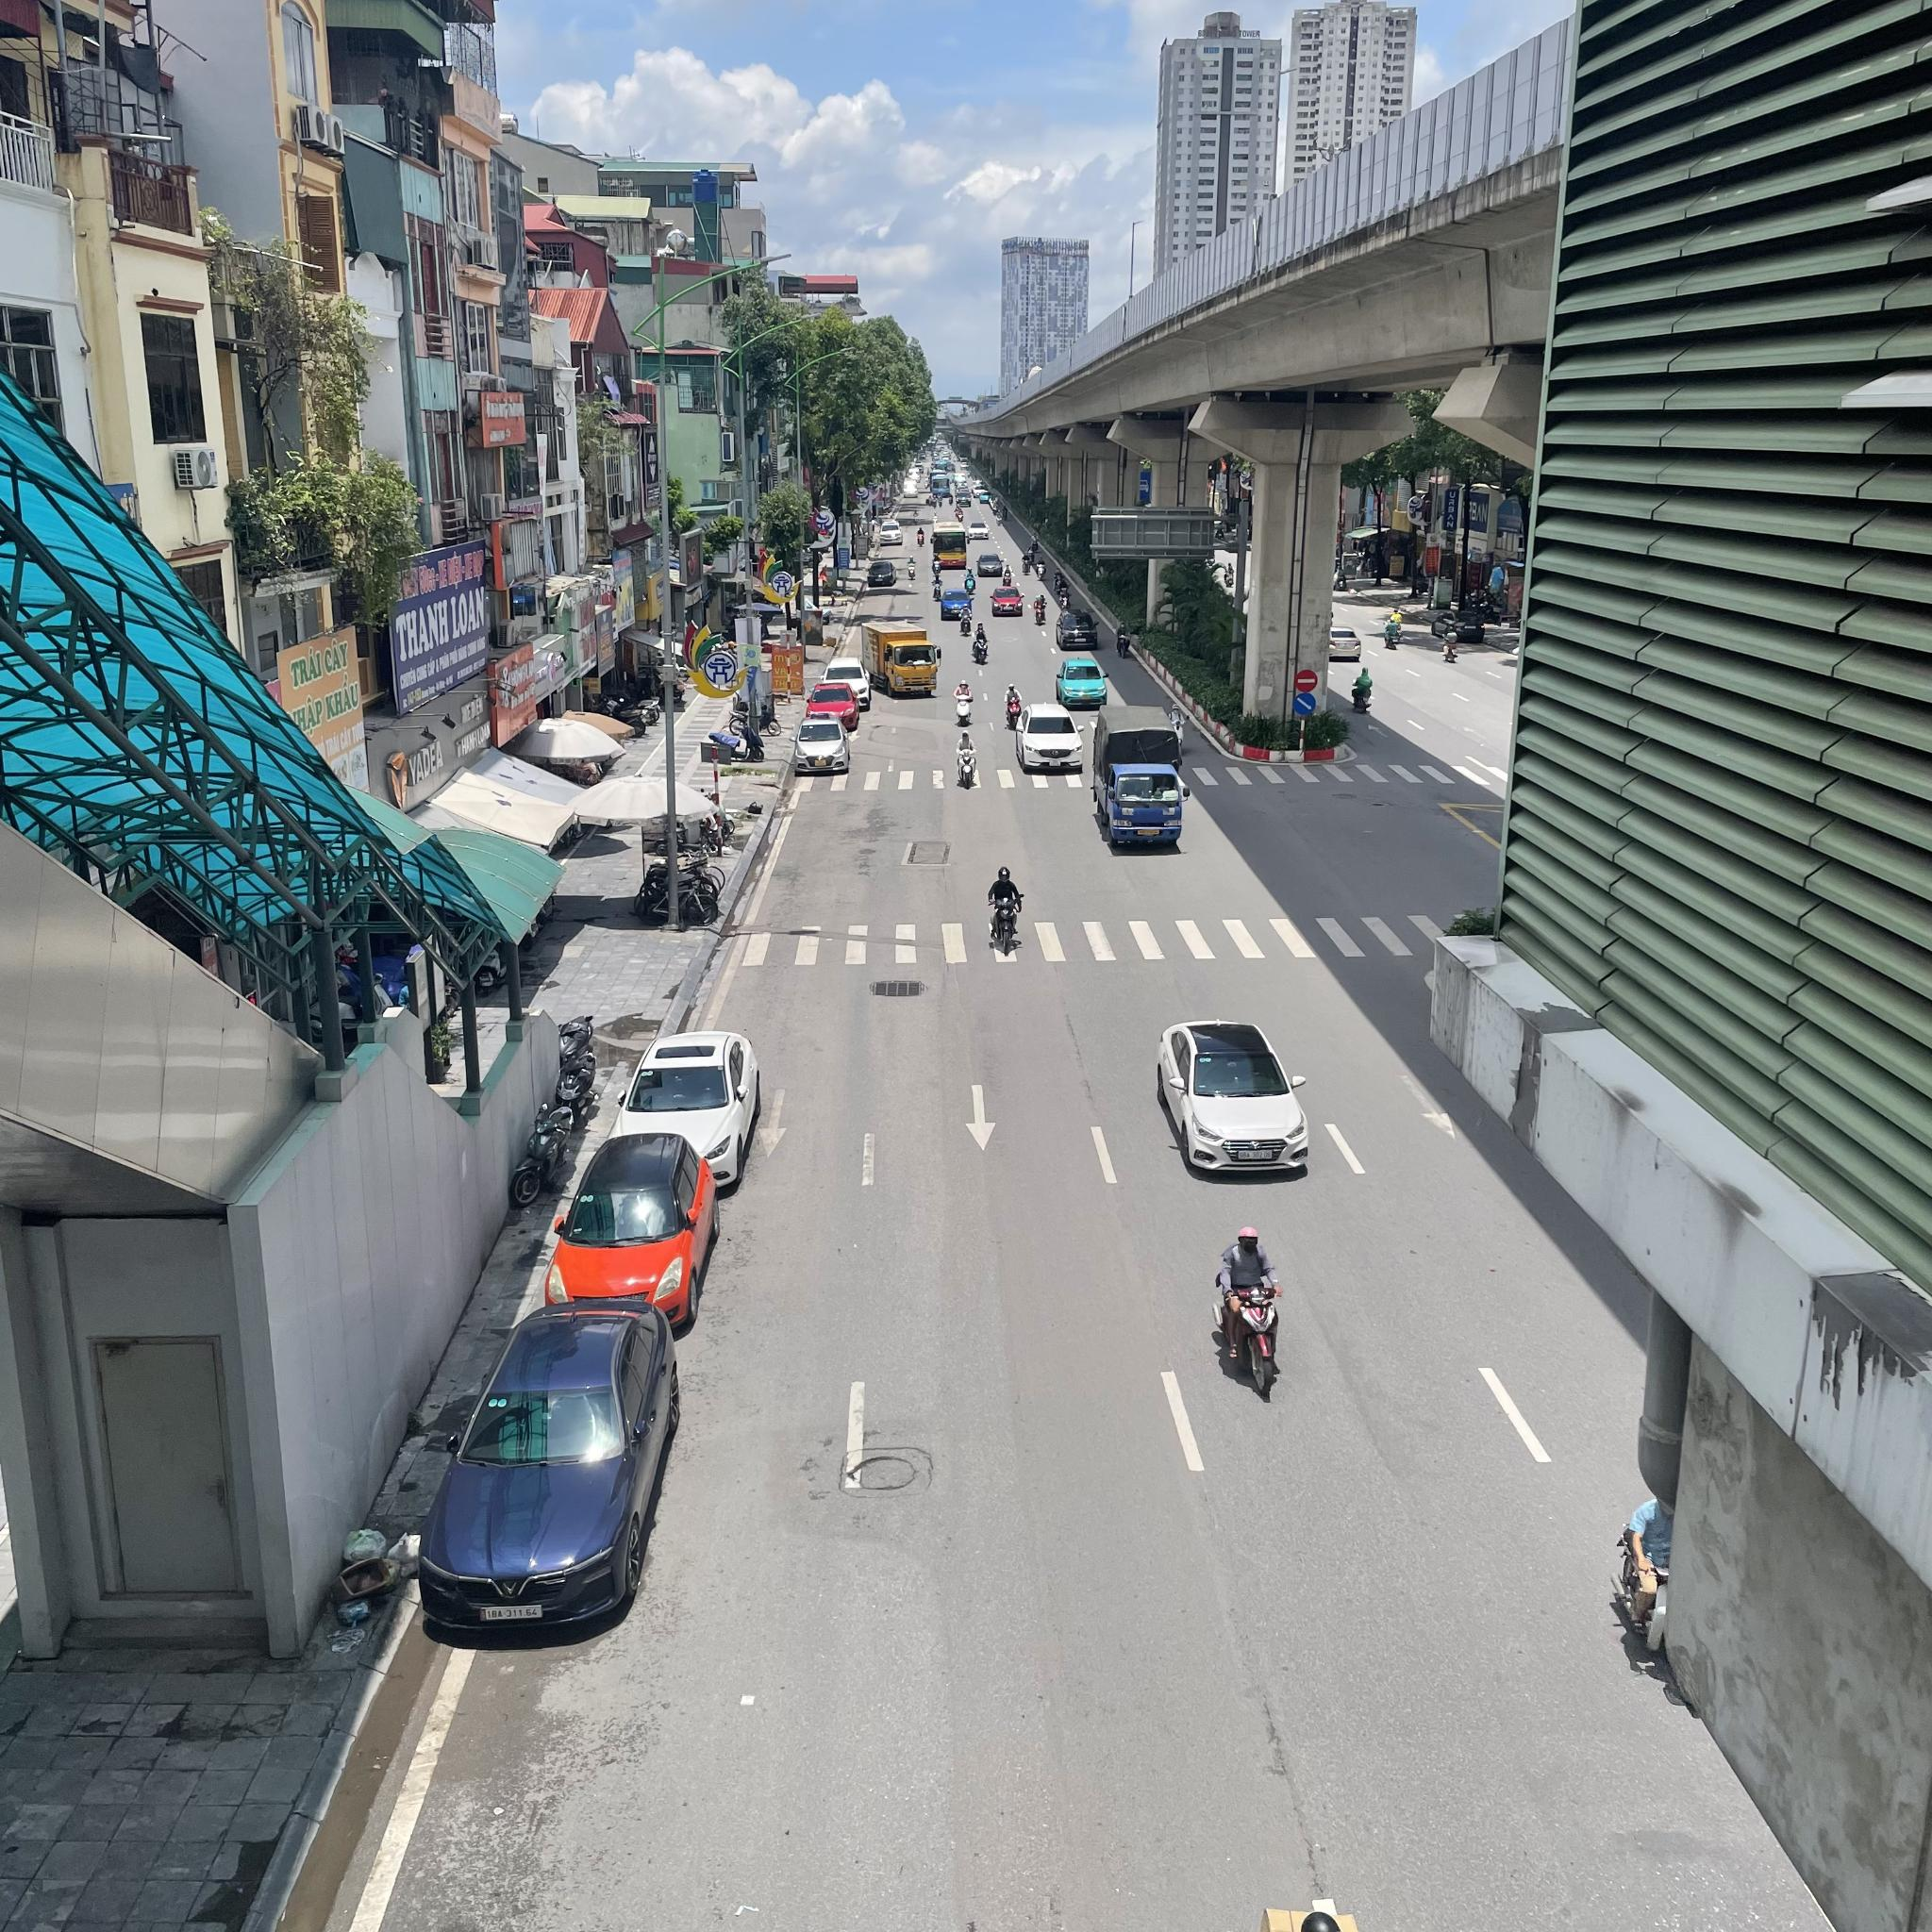car: (418, 1300, 697, 1645), (1157, 1019, 1316, 1187), (563, 1139, 711, 1311), (617, 1035, 759, 1189), (1090, 708, 1185, 849), (860, 621, 939, 699), (1024, 702, 1085, 775), (789, 715, 851, 777), (803, 683, 858, 731), (1056, 660, 1109, 704), (824, 660, 869, 706), (1056, 609, 1100, 651)
motobike: (1208, 1230, 1304, 1405), (987, 865, 1024, 957), (955, 729, 978, 787), (1003, 678, 1021, 732), (959, 678, 971, 729), (973, 623, 989, 662), (1031, 594, 1049, 625), (959, 603, 973, 633), (1116, 623, 1129, 656), (904, 554, 916, 580), (1058, 584, 1072, 607), (1035, 559, 1047, 582), (932, 575, 941, 600)
